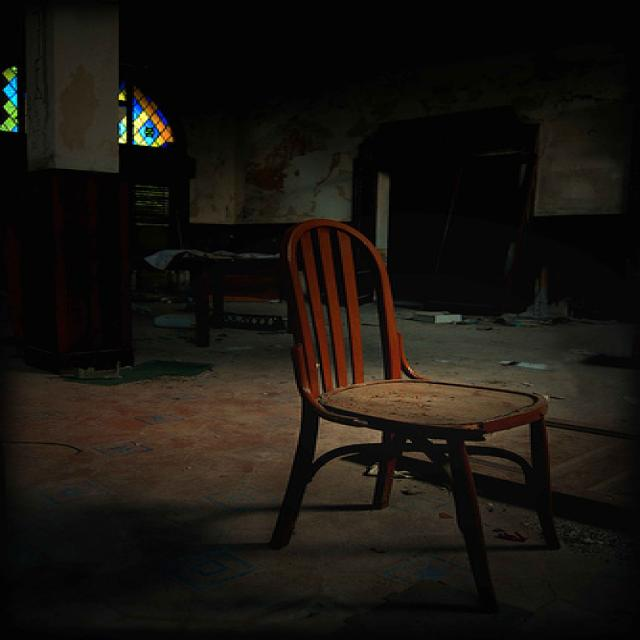chair: (255, 200, 592, 605), (17, 169, 194, 399)
